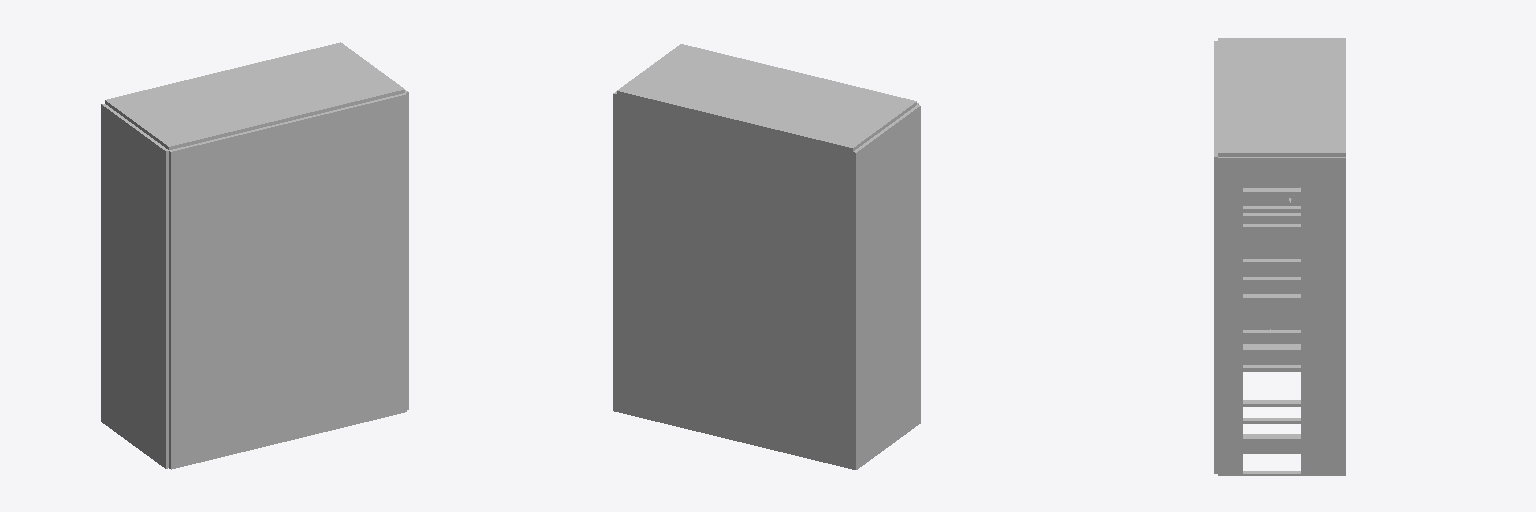
The model's file is 0_Klassenzimmer.obj.
3 views of the same model, side by side, from view 1: azimuth 30°, elevation 25°; view 2: azimuth 150°, elevation 25°; view 3: azimuth 270°, elevation 25° (orthographic).
Visible parts, largest first — view 1: Klassenzimmer_01; view 2: Klassenzimmer_01; view 3: Klassenzimmer_01.
Boxes of the visible parts, box(x1,y1,x2,y2) form: Klassenzimmer_01: box(101, 42, 408, 469); Klassenzimmer_01: box(613, 44, 920, 469); Klassenzimmer_01: box(1214, 38, 1345, 475).
Size of the model in its own units: 360 by 455 by 170.